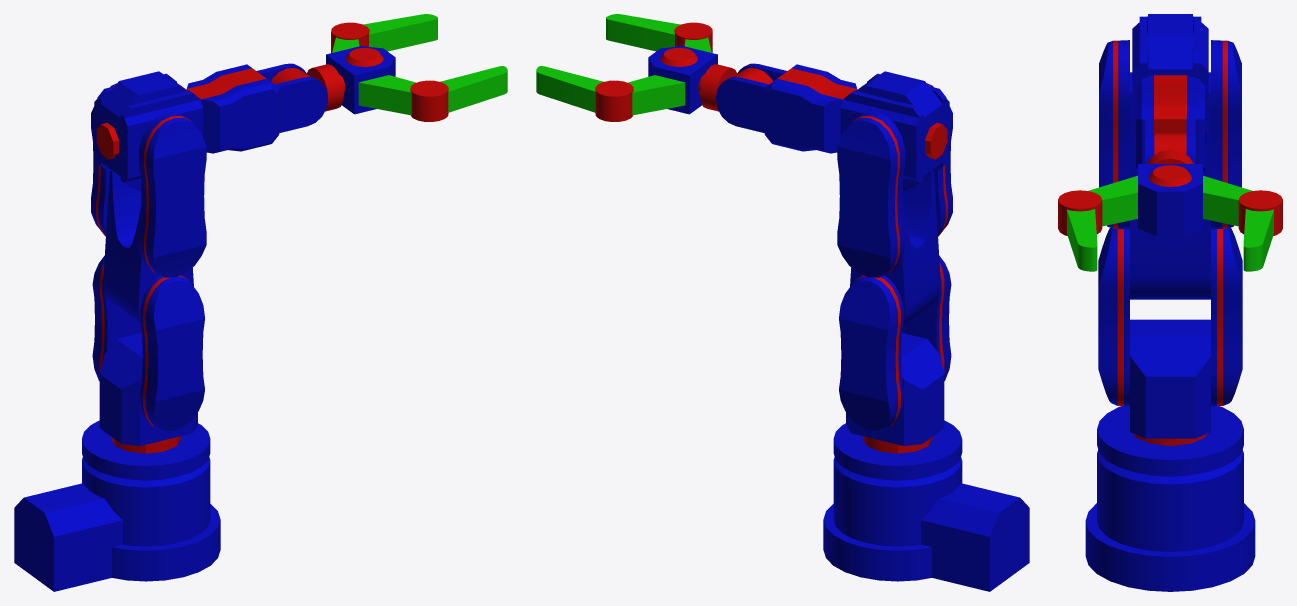
File: RobotArm_l 1.fbx
3 renders of one model, left to right at view 1: azimuth 30°, elevation 25°; view 2: azimuth 150°, elevation 25°; view 3: azimuth 270°, elevation 25°, orthographic. The views are drawn at different scales.
Parts seen in each view (by area): view 1: Cube.014; view 2: Cube.014; view 3: Cube.014.
Part boxes in pixels (<box>): Cube.014: <box>14,14,507,591</box>; Cube.014: <box>536,14,1029,591</box>; Cube.014: <box>1058,14,1282,591</box>.
Bounding box in the file's own units: 457 × 178 × 465.
